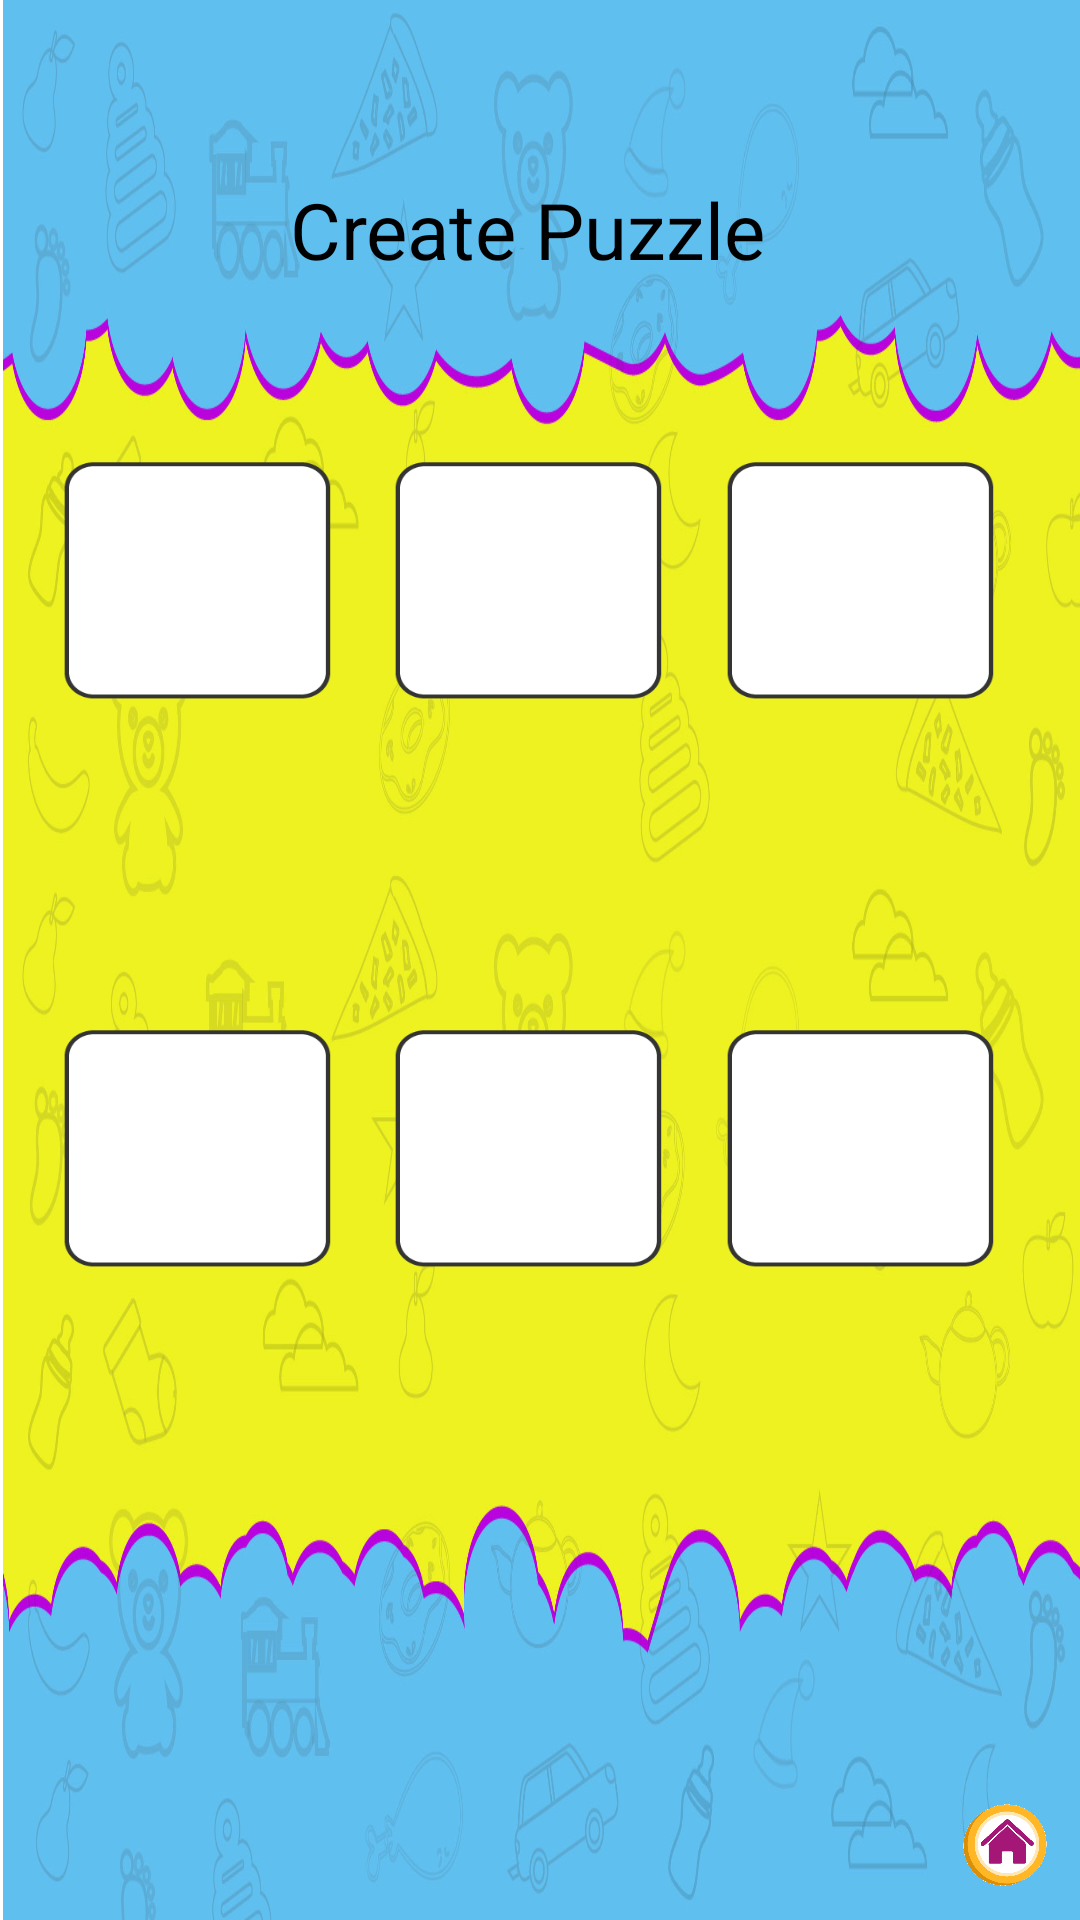

Screen size 1080x1920. Icon name, then its center in pixels as [x,y]:
homebutton: [1005,1828]
